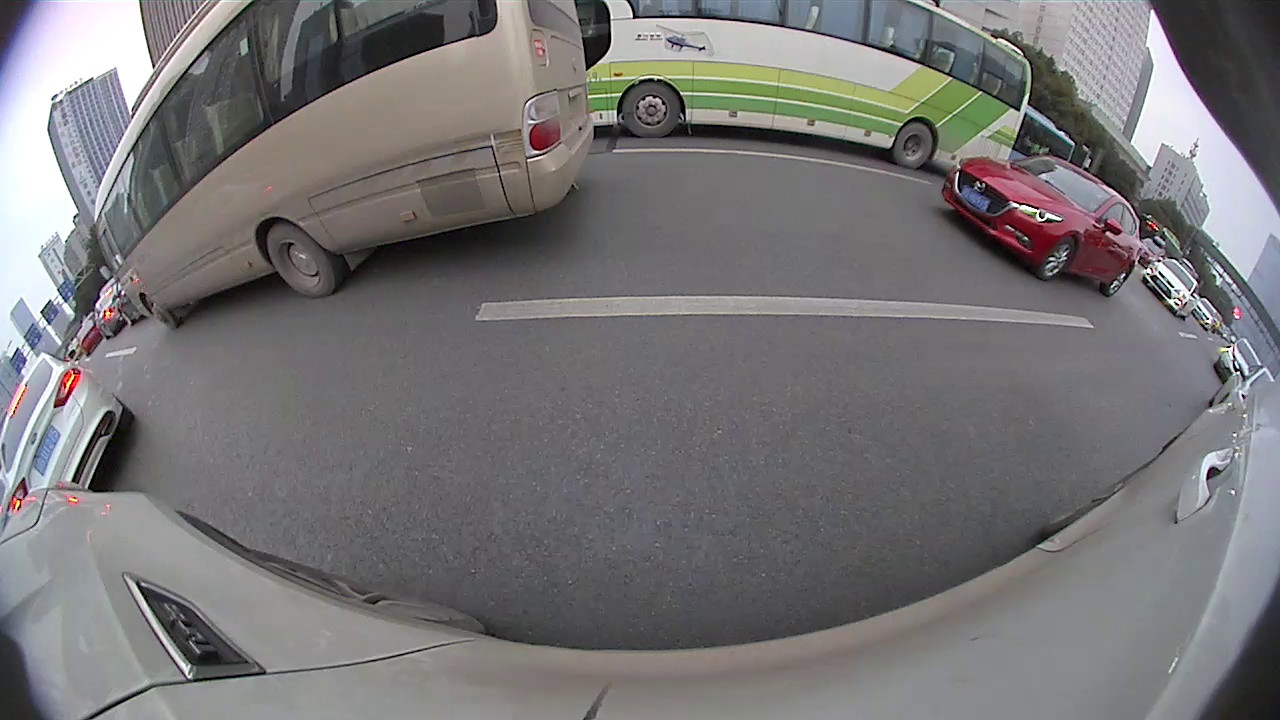bus: (89, 1, 597, 333), (576, 1, 1036, 173), (1010, 104, 1074, 180)
car: (944, 153, 1143, 297), (1, 355, 136, 514), (1140, 254, 1202, 313), (1213, 335, 1263, 384), (89, 290, 130, 338), (113, 273, 144, 323)
front: (621, 83, 683, 139), (1039, 238, 1076, 279), (142, 296, 181, 328)
rear: (268, 223, 340, 292), (892, 123, 932, 168), (1101, 265, 1135, 295)
